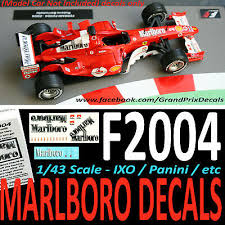FormulaOneCar: (14, 3, 206, 99)
